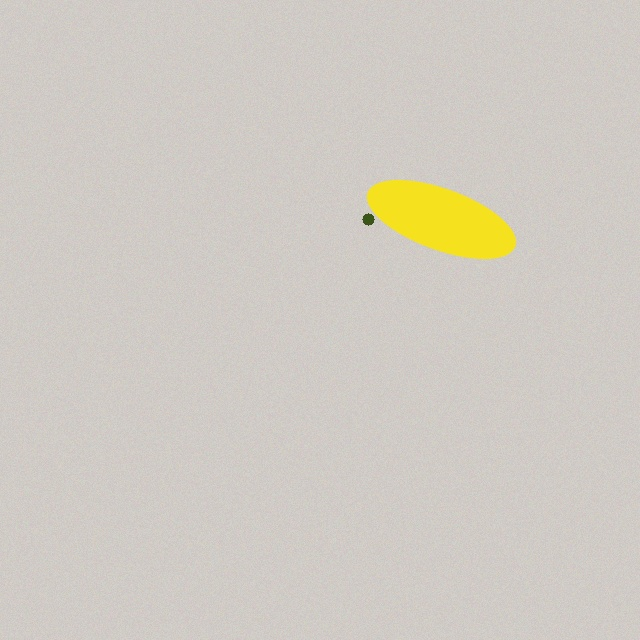Fresh banana: (360, 182, 522, 256)
